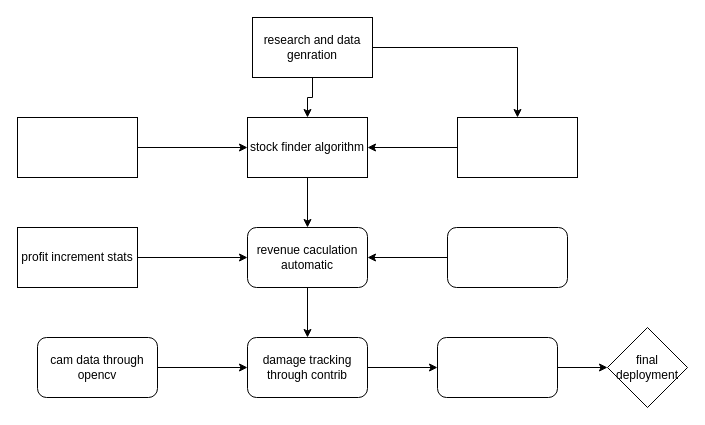
Some shapes in this 705 by 425 pixel diagram are drawn without their labels. Here are the shapes that lost their labels. From the top down, the centre of each, then its label:
At (77,147): "geolist maker".
At (517,147): "stock data".
At (507,257): "quality analysis stats".
At (497,367): "sales forcasting regressor".
